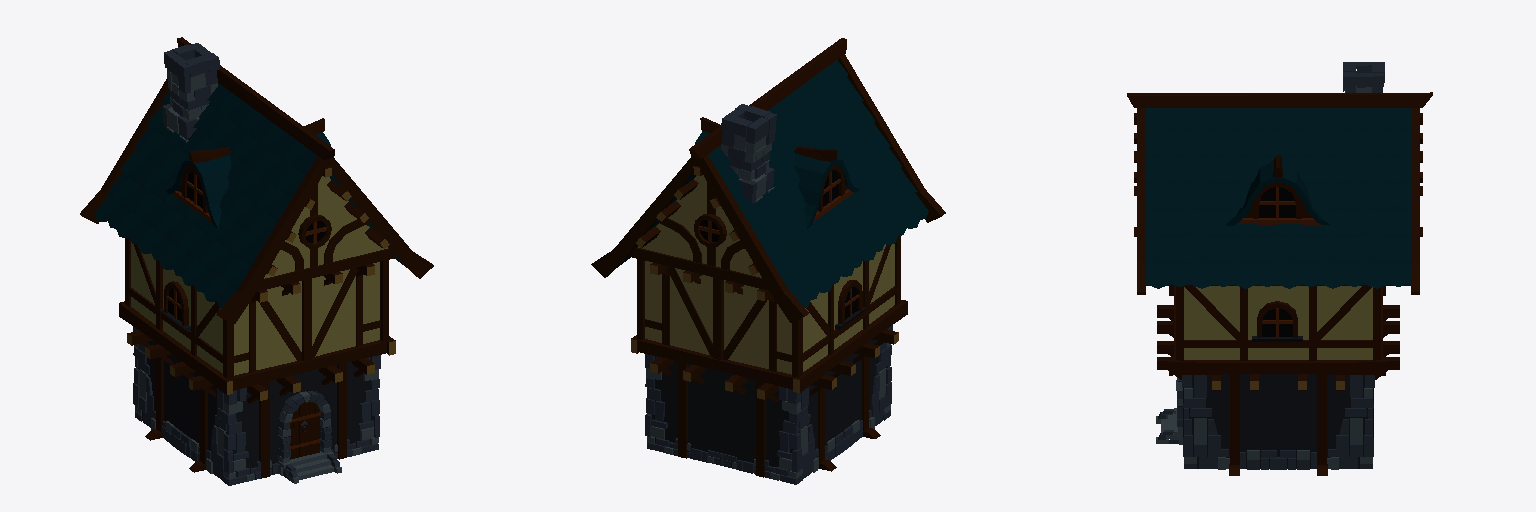
Rendered from house.obj.
3 renders of one model, left to right at view 1: azimuth 30°, elevation 25°; view 2: azimuth 150°, elevation 25°; view 3: azimuth 270°, elevation 25°, orthographic.
Visible parts, largest first — view 1: House_1; view 2: House_1; view 3: House_1.
Boxes of the visible parts, x1=… form: House_1: x1=80, y1=37, x2=433, y2=485; House_1: x1=591, y1=38, x2=945, y2=484; House_1: x1=1127, y1=62, x2=1432, y2=475.
Size of the model in its own units: 2.14 by 3.39 by 2.66.